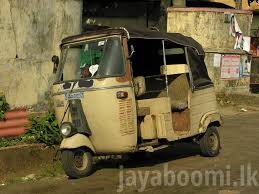tuk tuk: (49, 25, 223, 177)
